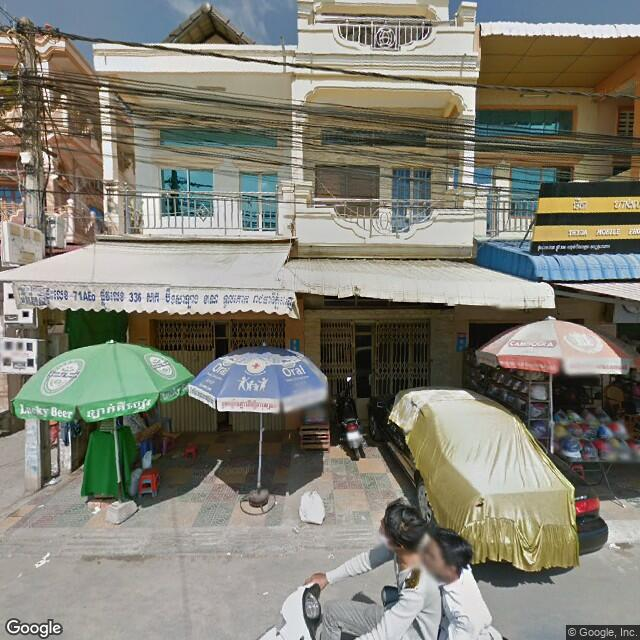litter: (32, 547, 54, 575), (607, 536, 627, 553), (257, 585, 272, 600), (90, 503, 104, 517), (47, 473, 59, 488), (222, 546, 233, 559)
